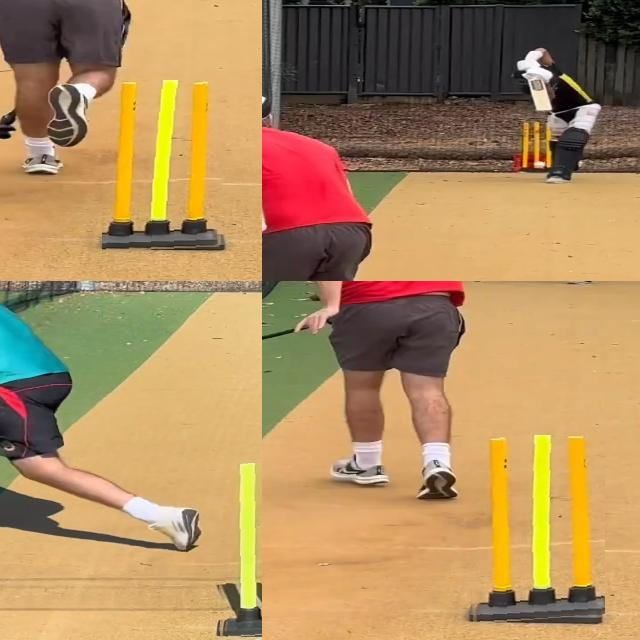Cricket ball: (532, 161, 547, 169)
Stumps: (466, 435, 605, 624), (102, 80, 228, 252), (214, 463, 262, 637)
